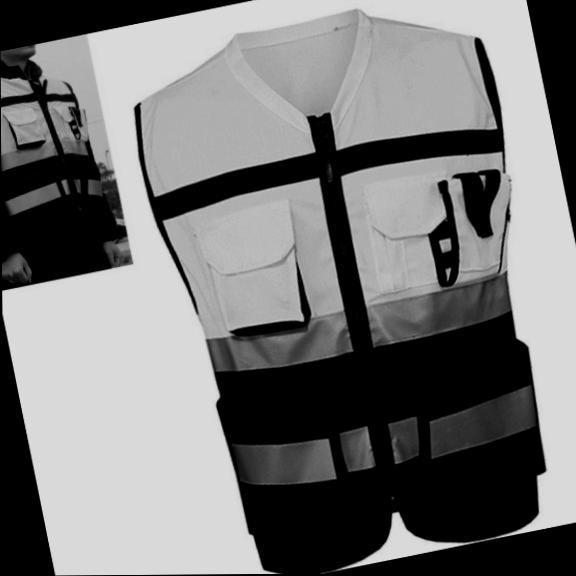safety_vest: (120, 0, 576, 575), (0, 54, 116, 281)
